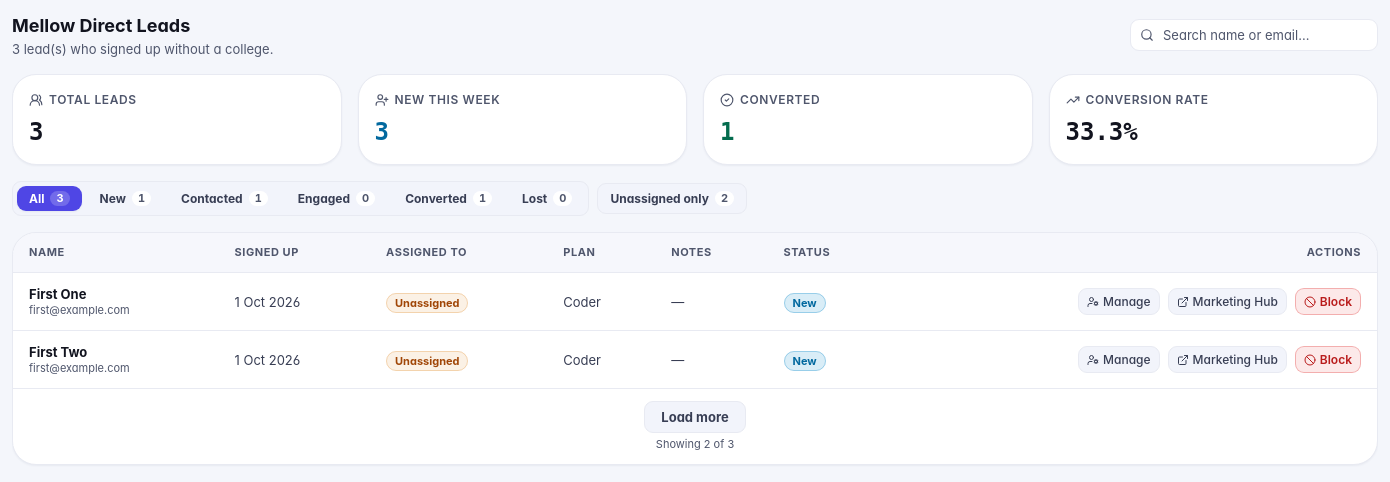
Leads tab — filters are answered by the server › appends the next page on Load more and says how far through the list it is
The image size is (1390, 482).
Expected: the text "First One" is shown, [29,286,86,302]
Expected: the text "Showing 2 of 3" is shown, [656,437,734,452]
Click the button "Load more": {"x": 695, "y": 417} [644,401,746,433]
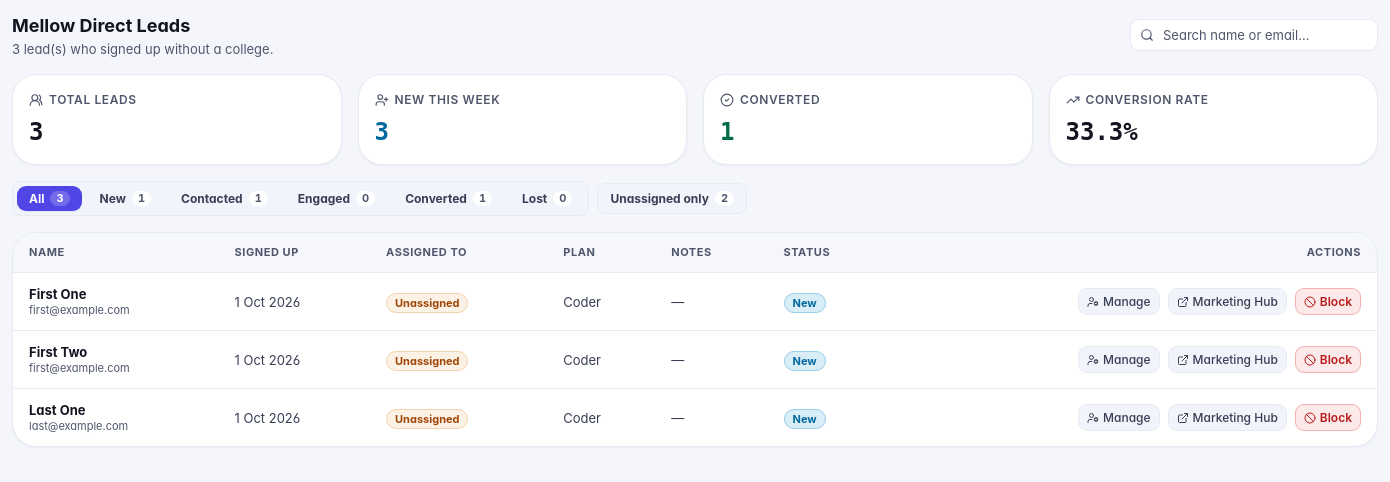
Expected: the text "First One" is shown, [29,286,86,302]
Result: the text "Last One" is shown at [29,402,86,418]
Result: the button "Load more" is gone
